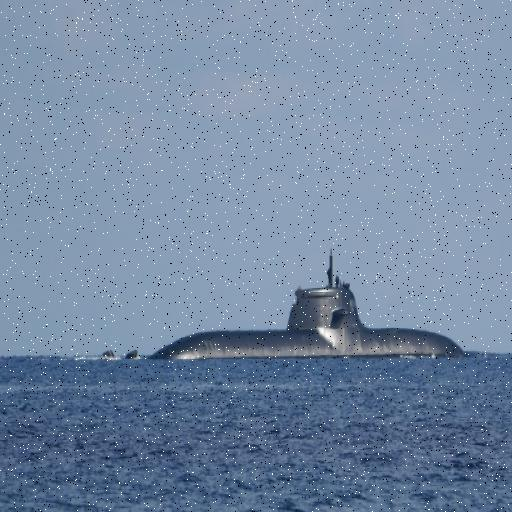submarine: (103, 249, 467, 364)
